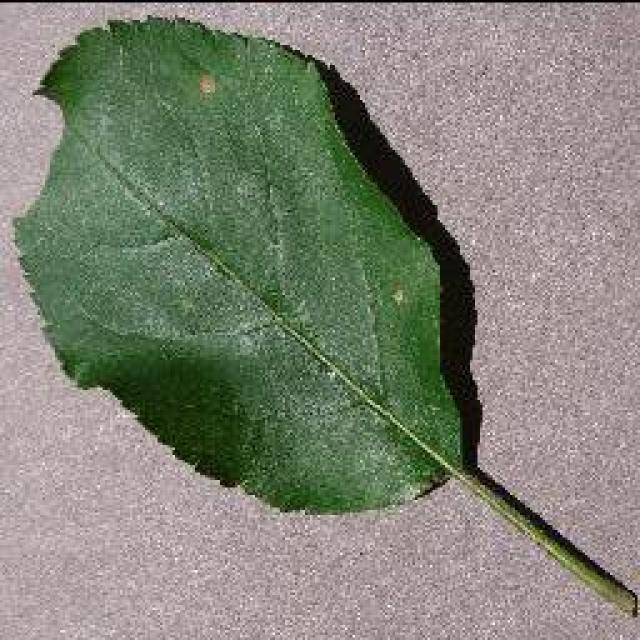Black_rot: (10, 12, 638, 618)
